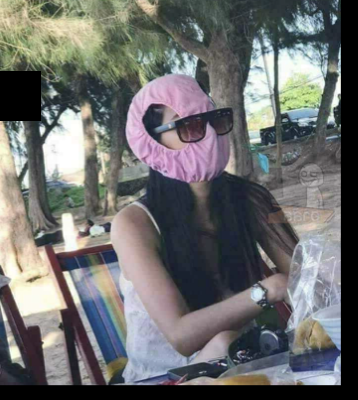with_mask: (160, 102, 231, 183)
